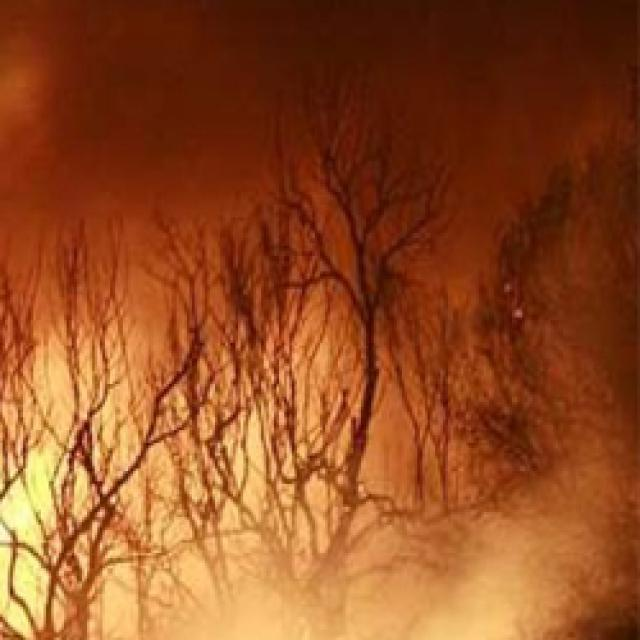Smoke: (0, 0, 640, 338), (145, 468, 640, 640), (517, 334, 640, 472)
